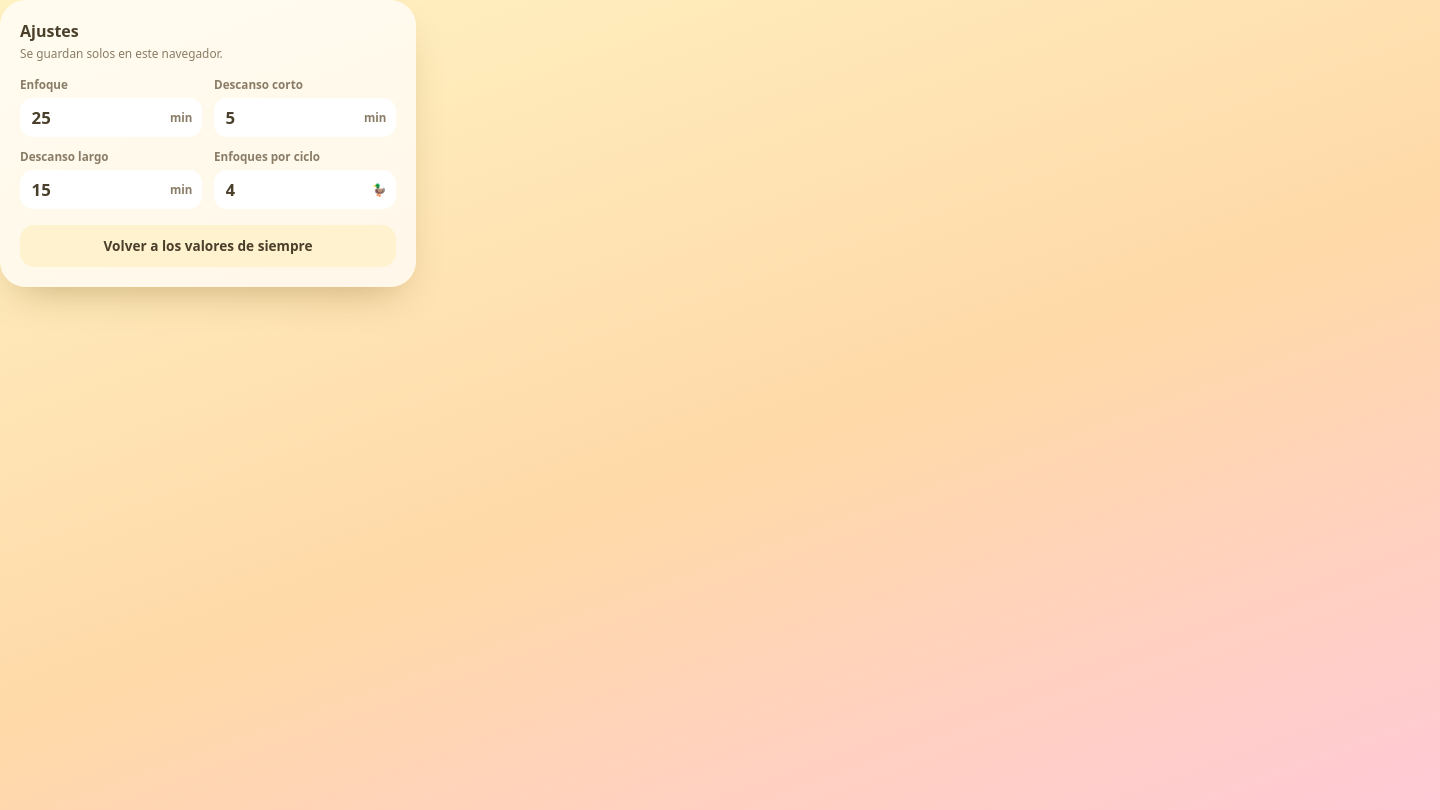
Test: Ajustes › acota también por abajo
The image size is (1440, 810).
Step 1. Replace the text in the number field labelled "Enfoques por ciclo" with "-3" → (295, 189), box [224,177,366,202]
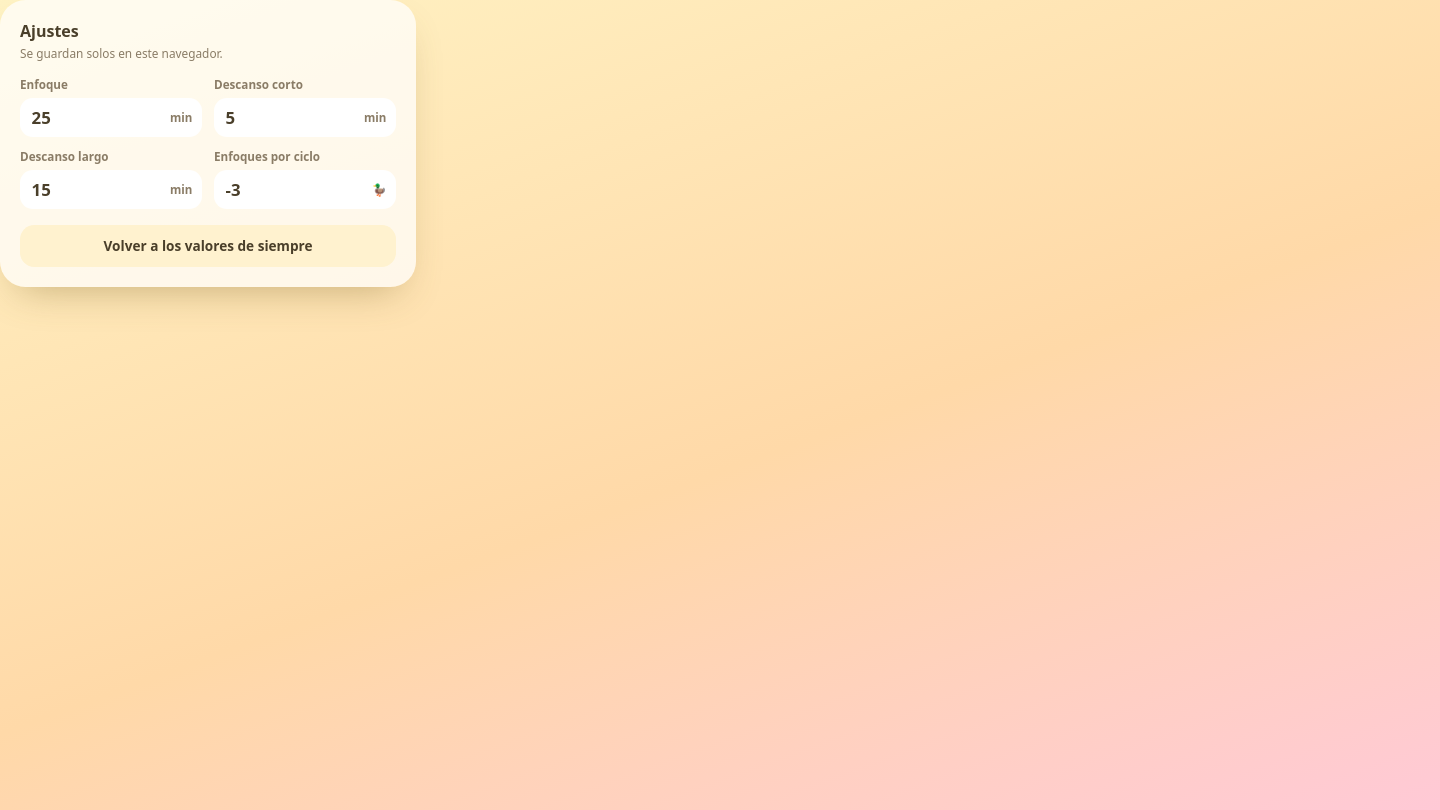
Step 2. Leave the number field labelled "Enfoques por ciclo", box [224,177,366,202]
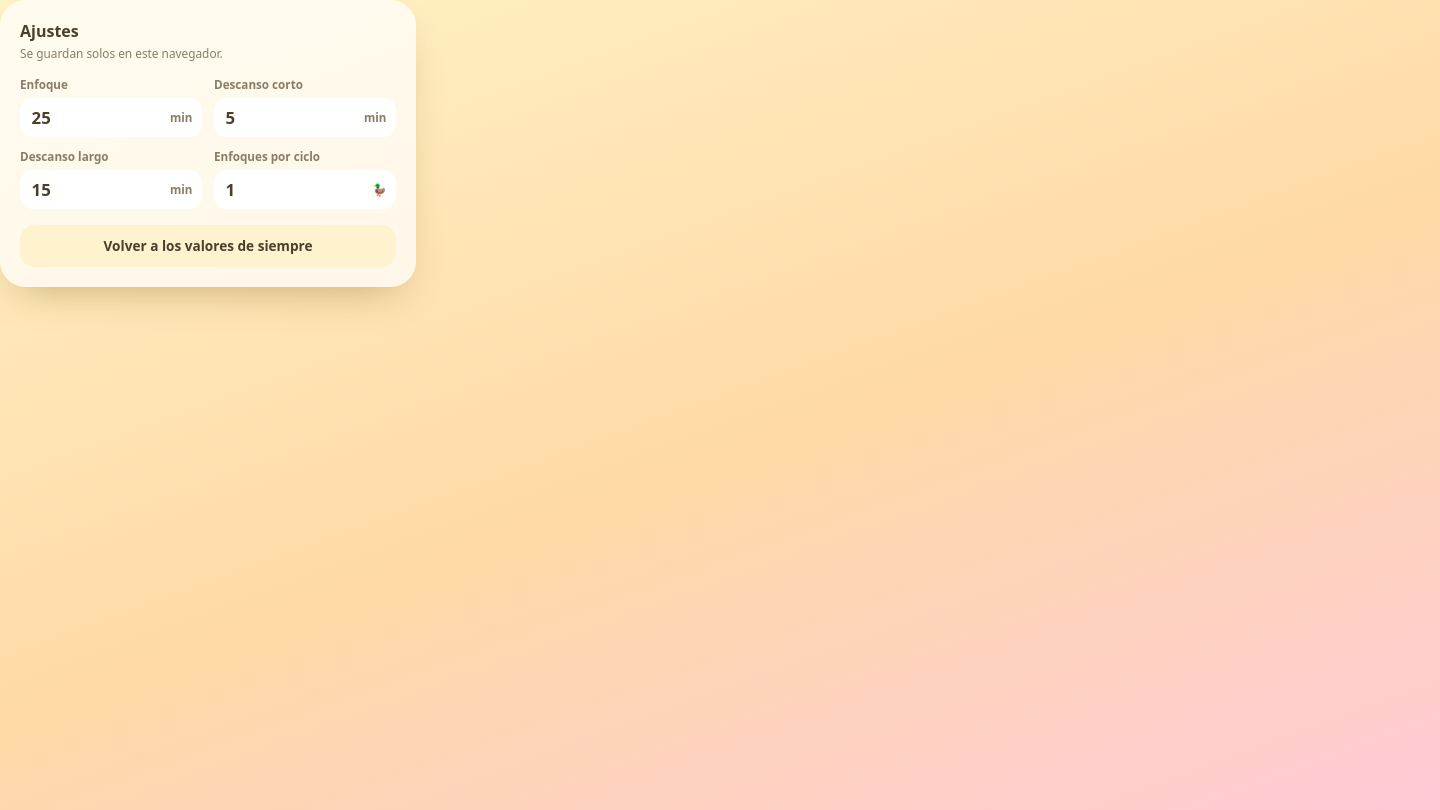
Expected: the number field labelled "Enfoques por ciclo" holds "1", [224,177,366,202]
